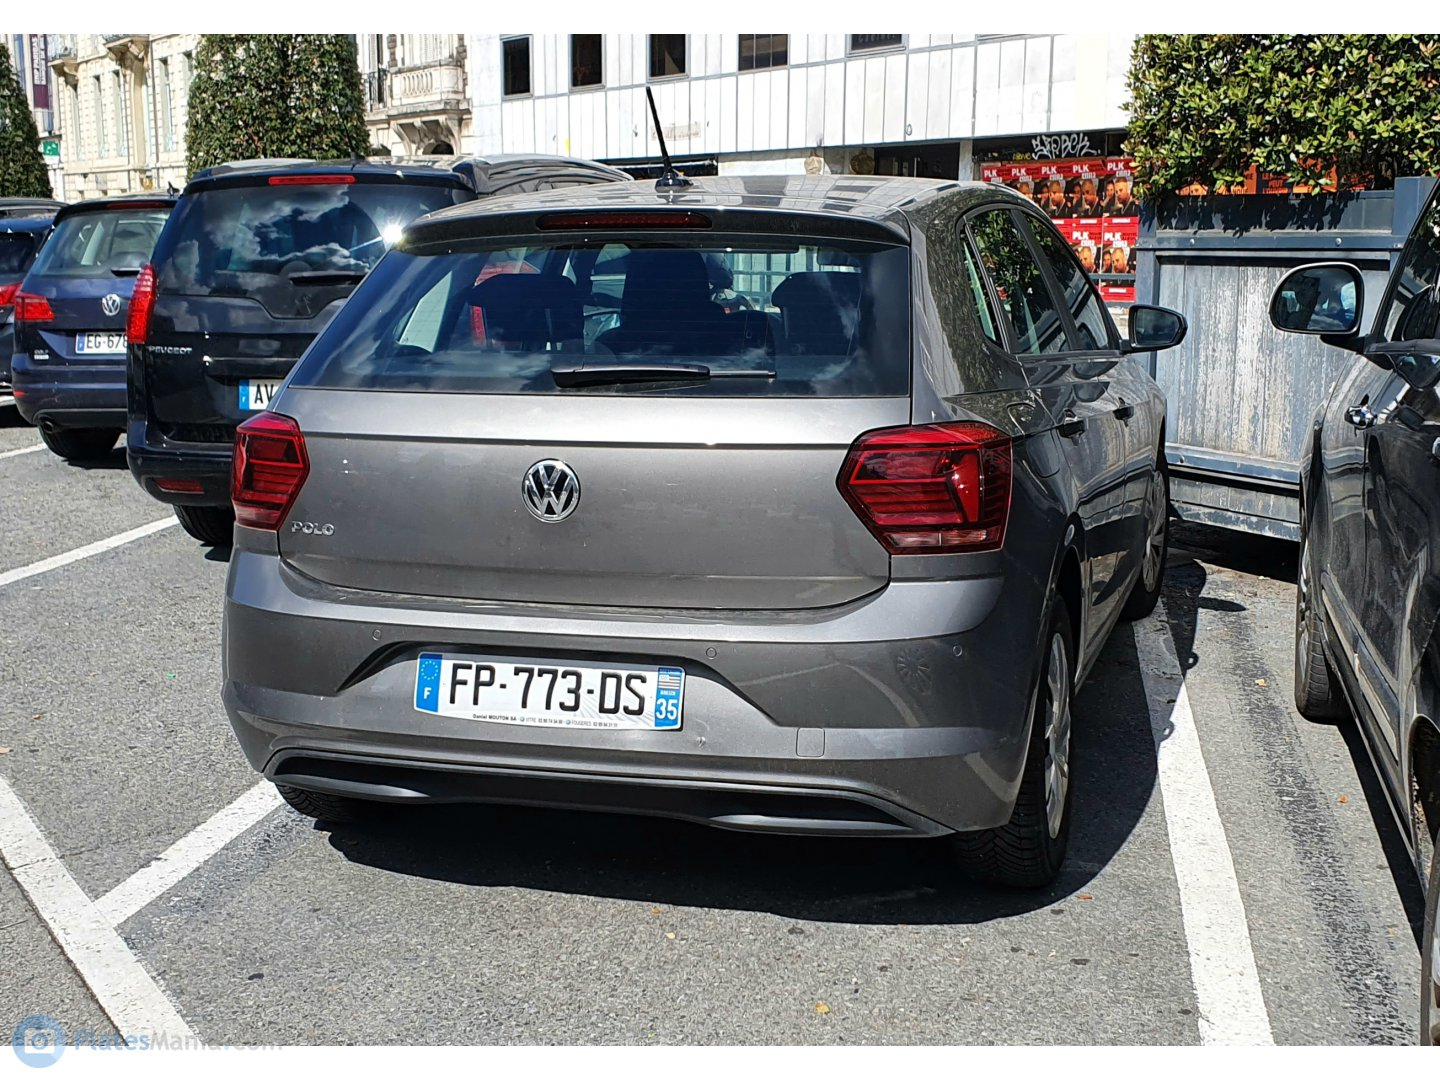licence plate: (406, 643, 693, 736)
